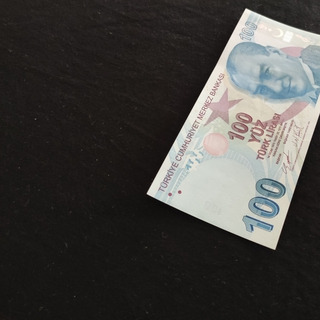100TLFront: (146, 7, 320, 251)
